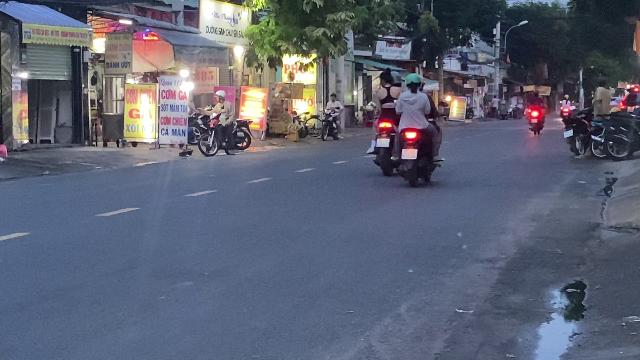helmet: (404, 73, 422, 91), (392, 70, 401, 86)
licenseplate: (402, 149, 416, 159)
motorcyclist: (394, 70, 444, 186), (369, 67, 403, 172)
nohelmet: (378, 69, 394, 87)
